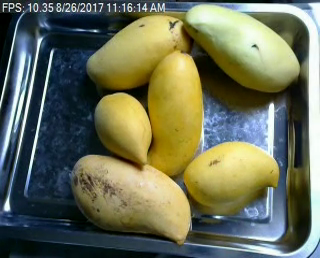Mango: (71, 155, 191, 244), (185, 4, 300, 92), (87, 16, 192, 89), (147, 50, 203, 176), (183, 142, 279, 207), (93, 91, 152, 165)
